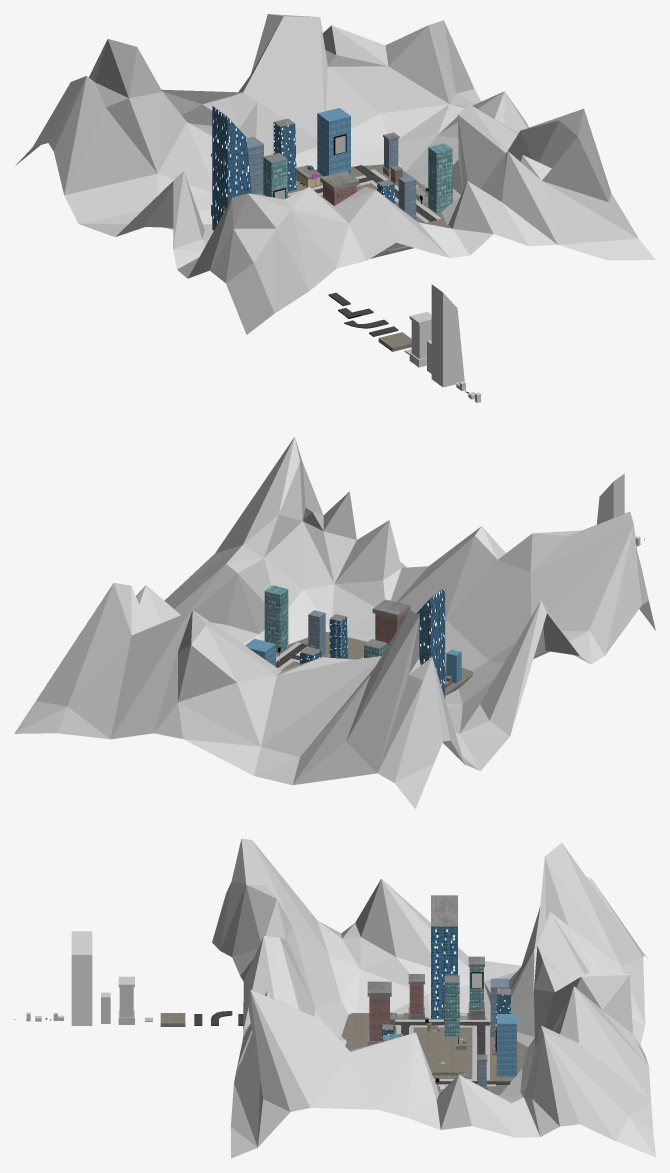
Rendered from City.fbx.
3 renders of one model, top to bottom at view 1: azimuth 30°, elevation 25°; view 2: azimuth 150°, elevation 25°; view 3: azimuth 270°, elevation 25°, orthographic. The views are drawn at different scales.
Parts seen in each view (by area): view 1: Plane, Cube.086, Cube.011, Cube.137, Cube.133, Cube.132, Cube.162, Cube.100, Cube.134, Cube.014; view 2: Plane, Cube.086, Cube.133, Cube.011, Cube.136, Cube.134, Cube.139; view 3: Plane, Cube.086, Cube.011, Cube.137, Cube.162, Cube.139, Cube.100.
Part boxes in pixels (<box>): Plane: <box>15,14,655,334</box>; Cube.086: <box>212,106,251,230</box>; Cube.011: <box>431,284,464,387</box>; Cube.137: <box>317,108,350,176</box>; Cube.133: <box>428,143,452,213</box>; Cube.132: <box>273,118,296,191</box>; Cube.162: <box>263,153,287,198</box>; Cube.100: <box>246,136,263,194</box>; Cube.134: <box>398,175,416,220</box>; Cube.014: <box>411,320,431,359</box>; Plane: <box>14,437,655,809</box>; Cube.086: <box>416,587,445,698</box>; Cube.133: <box>264,585,288,652</box>; Cube.011: <box>596,473,624,524</box>; Cube.136: <box>329,614,347,658</box>; Cube.134: <box>308,610,325,655</box>; Cube.139: <box>375,612,407,645</box>; Plane: <box>212,838,655,1158</box>; Cube.086: <box>431,895,457,1019</box>; Cube.011: <box>71,931,92,1025</box>; Cube.137: <box>496,1014,516,1076</box>; Cube.162: <box>444,975,459,1036</box>; Cube.139: <box>369,996,389,1040</box>; Cube.100: <box>490,978,508,1037</box>.
Bounding box in the file's own units: 19999 × 7771 × 28699.
